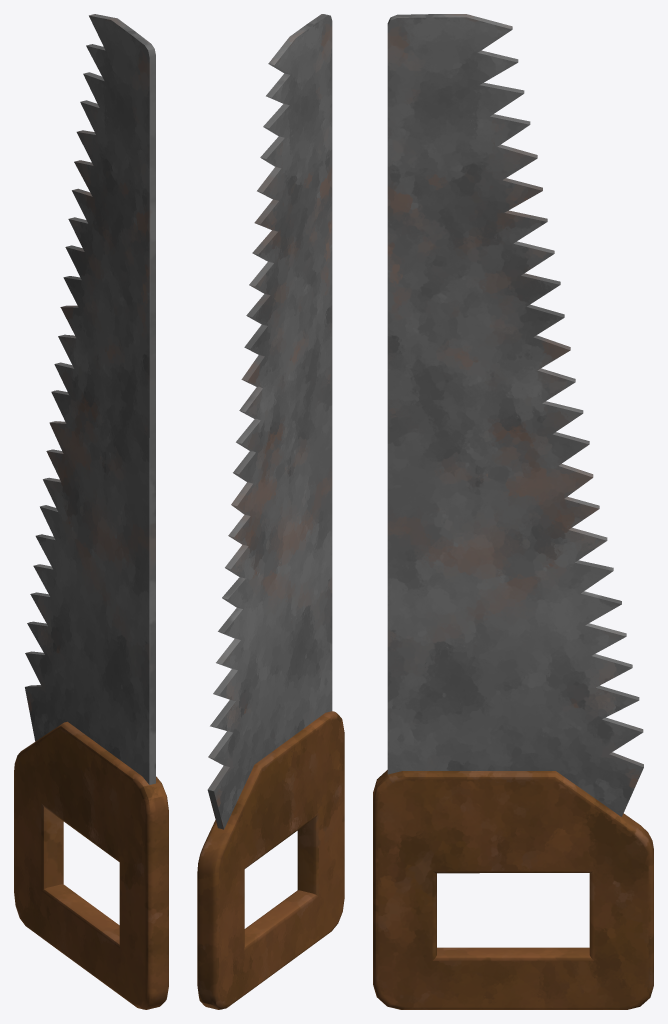
File: Serrote.fbx
3 views of the same model, side by side, from view 1: azimuth 30°, elevation 25°; view 2: azimuth 150°, elevation 25°; view 3: azimuth 270°, elevation 25° (orthographic). The views are drawn at different scales.
Parts seen in each view (by area): view 1: Serrote_Mesh; view 2: Serrote_Mesh; view 3: Serrote_Mesh.
Part boxes in pixels (x1,y1,x2,y2): Serrote_Mesh: (14,14,168,1009); Serrote_Mesh: (197,14,344,1009); Serrote_Mesh: (373,14,653,1009).
Bounding box in the file's own units: 2.2 × 92.03 × 23.65.
1 material, 1 textured.
